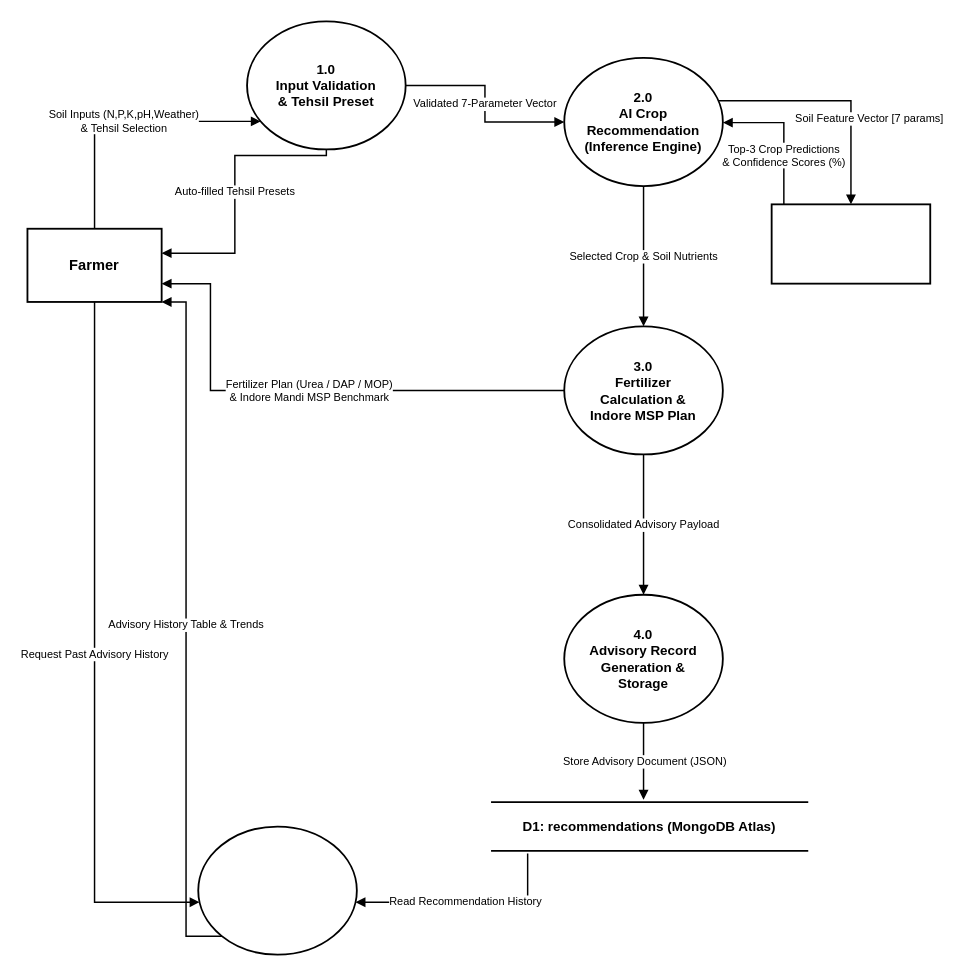
The diagram is 965 pixels wide and 977 high, and some of its shapes have lost their labels. The centre of each missing label's shape, as x and y in pixels:
"5.0 Advisory History & Trend Query" goes at point (277, 890).
"Python ML Engine (Random Forest Classifier)" goes at point (850, 243).
